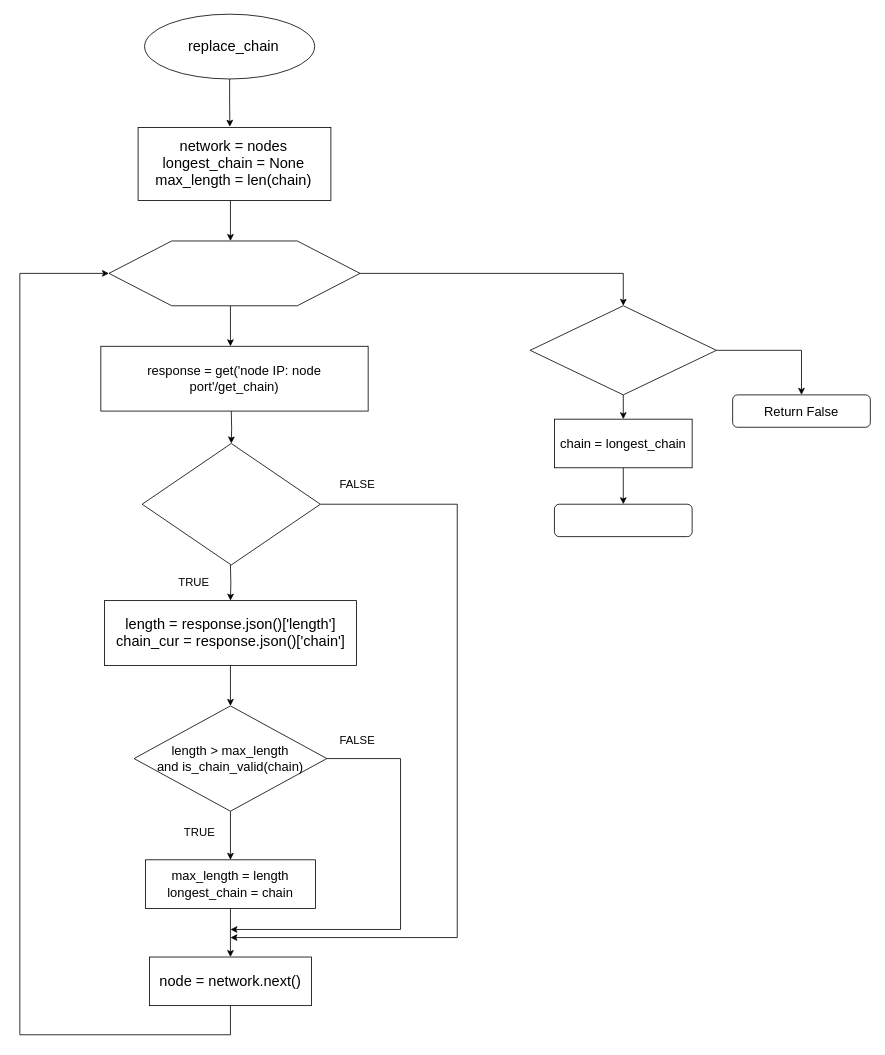
Some shapes in this 885 by 1055 pixel diagram are drawn without their labels. Each missing label, with the centre of its shape:
"for node in network" belongs at (x=234, y=273).
"longest_chain != None" belongs at (x=622, y=350).
"response.status_code == 200" belongs at (x=230, y=504).
"Return True" belongs at (x=623, y=520).
